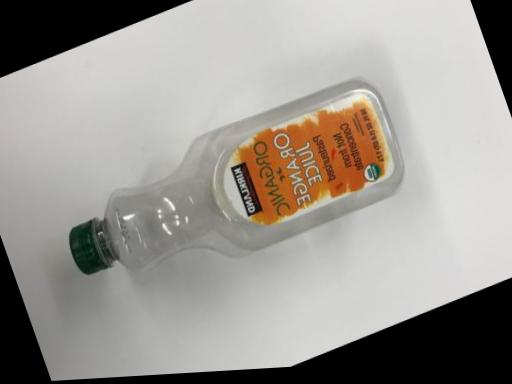plastic: (69, 80, 403, 274)
